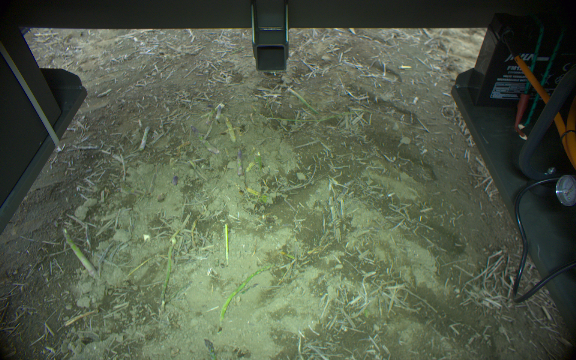aspa: (219, 265, 272, 324), (62, 227, 95, 279), (159, 229, 181, 300), (287, 87, 318, 114), (190, 124, 218, 153), (223, 221, 232, 264), (138, 125, 152, 152), (202, 338, 218, 360), (223, 116, 236, 142), (236, 147, 244, 179), (216, 104, 223, 120)
